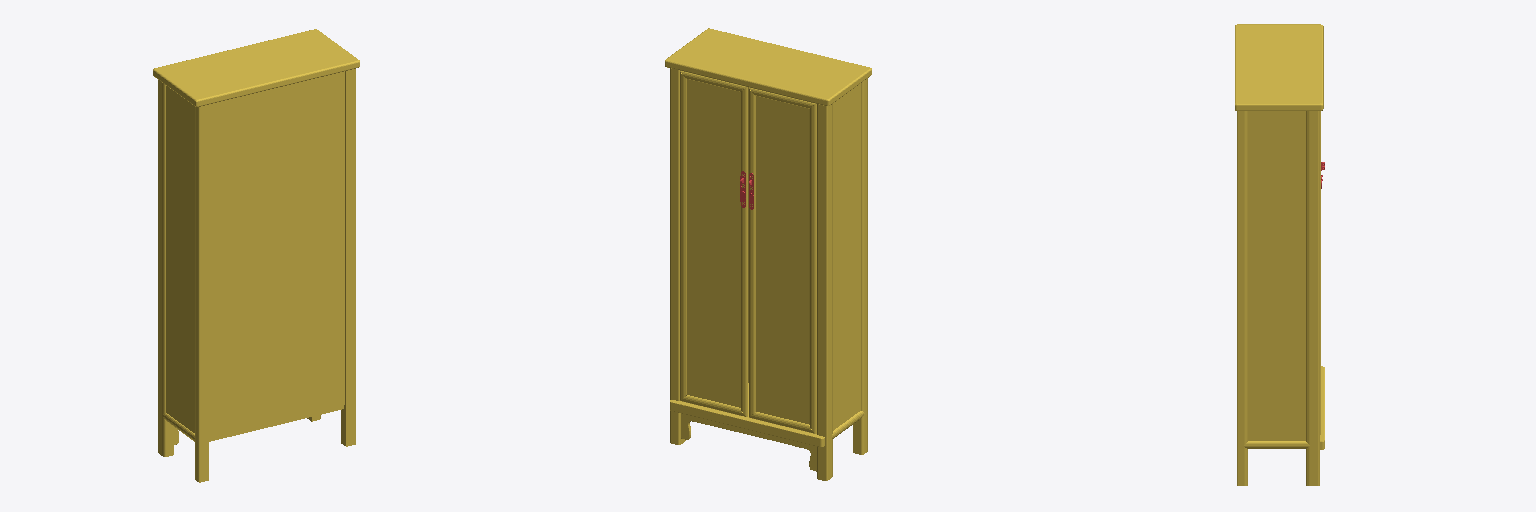
3 renders of one model, left to right at view 1: azimuth 30°, elevation 25°; view 2: azimuth 150°, elevation 25°; view 3: azimuth 270°, elevation 25°, orthographic.
Parts seen in each view (by area): view 1: Wood; view 2: Wood; view 3: Wood.
Part boxes in pixels (x1,y1,x2,y2): Wood: (153, 29, 359, 482); Wood: (665, 28, 871, 480); Wood: (1235, 24, 1324, 485).
Size of the model in its own units: 900 by 2000 by 429.